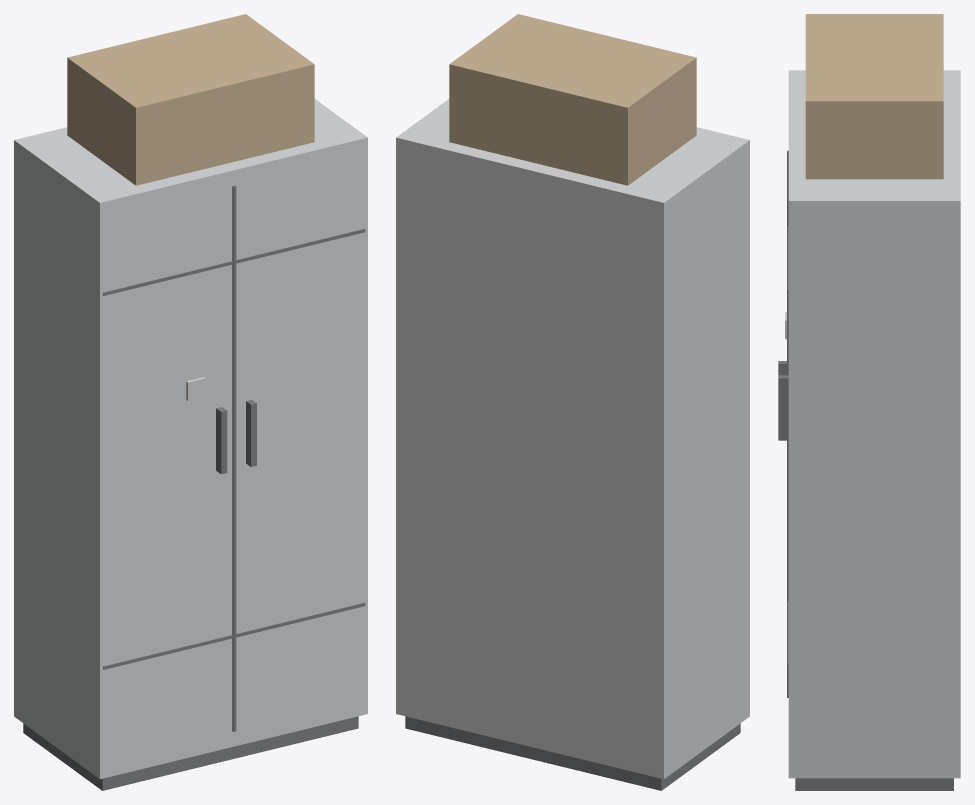
Rendered from Almirah.fbx.
The picture shows the model from 3 angles, left to right: view 1: azimuth 30°, elevation 25°; view 2: azimuth 150°, elevation 25°; view 3: azimuth 270°, elevation 25°; orthographic projection.
Visible parts, largest first — view 1: Almirah; view 2: Almirah; view 3: Almirah.
Boxes of the visible parts, bbox=[...] form: Almirah: bbox=[14, 14, 367, 790]; Almirah: bbox=[396, 14, 749, 790]; Almirah: bbox=[778, 14, 960, 790].
Size of the model in its own units: 0.9 by 2.15 by 0.53.
